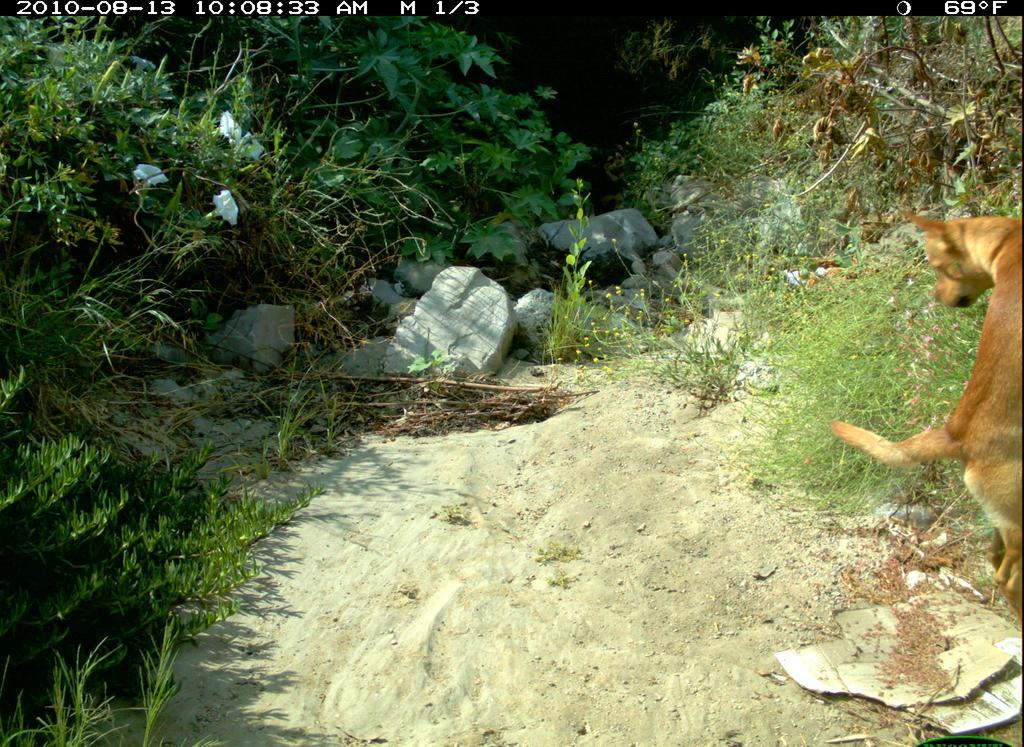dog: (822, 201, 1024, 607)
